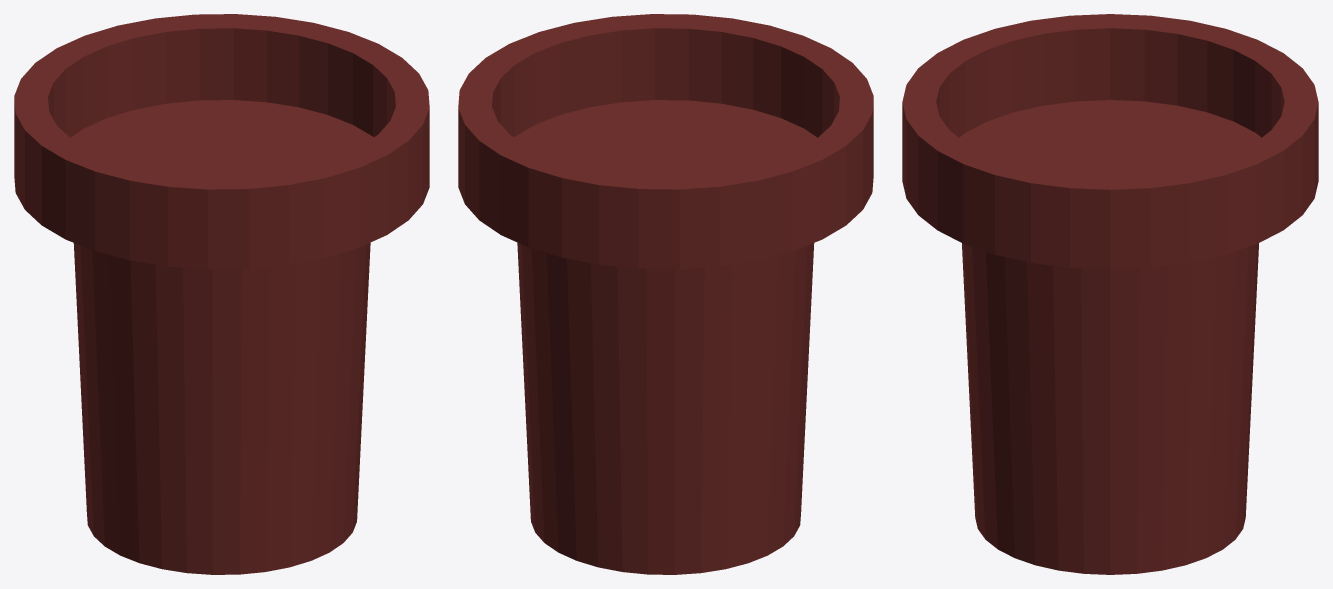
File: pot.fbx
3 renders of one model, left to right at view 1: azimuth 30°, elevation 25°; view 2: azimuth 150°, elevation 25°; view 3: azimuth 270°, elevation 25°, orthographic.
Parts seen in each view (by area): view 1: Cylinder; view 2: Cylinder; view 3: Cylinder.
Boxes of the visible parts, x1,y1,x2,y2 form: Cylinder: (14, 14, 429, 574); Cylinder: (458, 14, 873, 574); Cylinder: (902, 14, 1318, 574).
Bounding box in the file's own units: 308 × 339 × 308.
